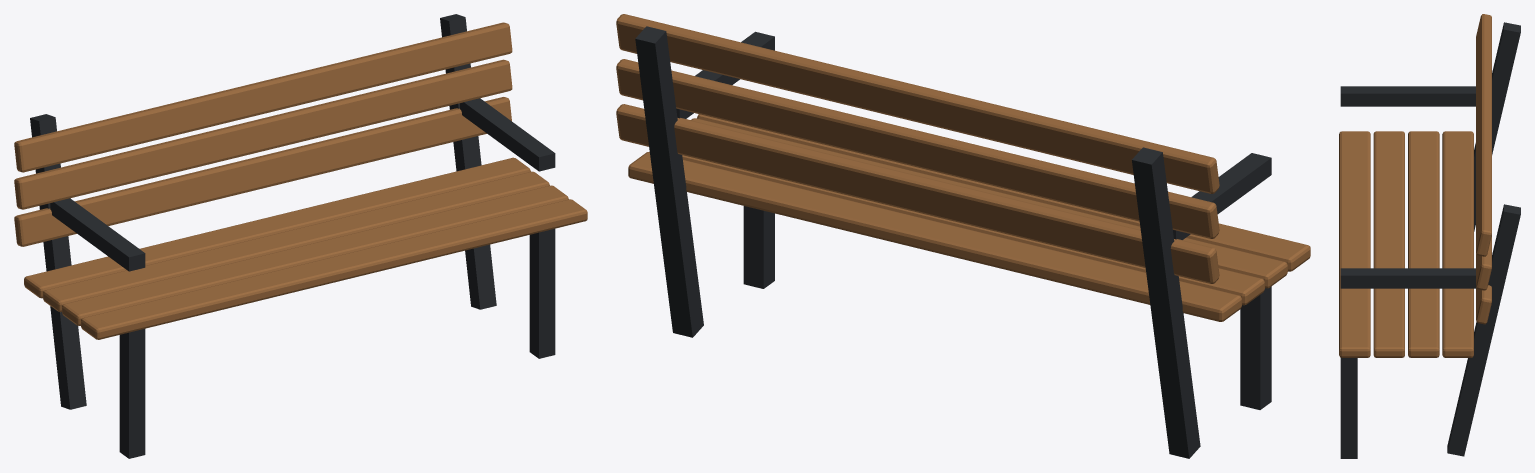
The model's file is bank.glb.
3 views of the same model, side by side, from view 1: azimuth 30°, elevation 25°; view 2: azimuth 150°, elevation 25°; view 3: azimuth 270°, elevation 25° (orthographic). The views are drawn at different scales.
Visible parts, largest first — view 1: lehne.002, lehne.001, lehne, sitz, sitz.001, sitz.002, sitz.003, bein_h, bein_v.001, bein_v, bein_h.001, arm.001 (+1 smaller); view 2: lehne.002, lehne, lehne.001, sitz.003, bein_h.001, bein_h, sitz, sitz.002, sitz.001, bein_v, bein_v.001, arm (+1 smaller); view 3: sitz, sitz.002, sitz.003, sitz.001, bein_h.001, lehne.002, arm.001, arm, bein_h, bein_v.001, lehne.001, lehne.
Part boxes in pixels (x1,y1,x2,y2): lehne.002: (14,22,512,172); lehne.001: (14,59,512,209); lehne: (14,97,511,246); sitz: (81,199,587,339); sitz.001: (62,185,568,325); sitz.002: (43,171,549,312); sitz.003: (24,157,530,298); bein_h: (30,114,86,409); bein_v.001: (529,228,555,358); bein_v: (119,329,145,458); bein_h.001: (440,14,496,309); arm.001: (460,98,555,171); lehne.002: (616,14,1219,193); lehne: (616,104,1219,283); lehne.001: (616,59,1219,238); sitz.003: (628,152,1241,321); bein_h.001: (635,26,703,337); bein_h: (1132,147,1200,458); sitz: (697,114,1310,271); sitz.002: (682,155,1264,305); sitz.001: (691,118,1287,288); bein_v: (1240,286,1271,409); bein_v.001: (743,206,774,288); arm: (1173,153,1271,239); sitz: (1339,131,1370,357); sitz.002: (1408,131,1439,357); sitz.003: (1442,131,1473,357); sitz.001: (1373,131,1404,357); bein_h.001: (1447,204,1520,456); lehne.002: (1476,14,1491,256); arm.001: (1340,268,1476,288); arm: (1340,86,1475,106); bein_h: (1474,22,1520,231); bein_v.001: (1340,357,1357,458); lehne.001: (1476,235,1491,290); lehne: (1476,285,1491,324).
Bounding box in the file's own units: 1.8 × 0.9509 × 0.6331.
